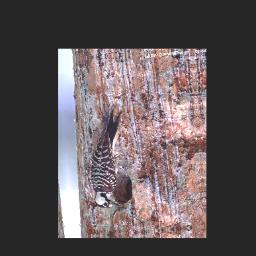Woodpecker: (86, 108, 128, 211)
